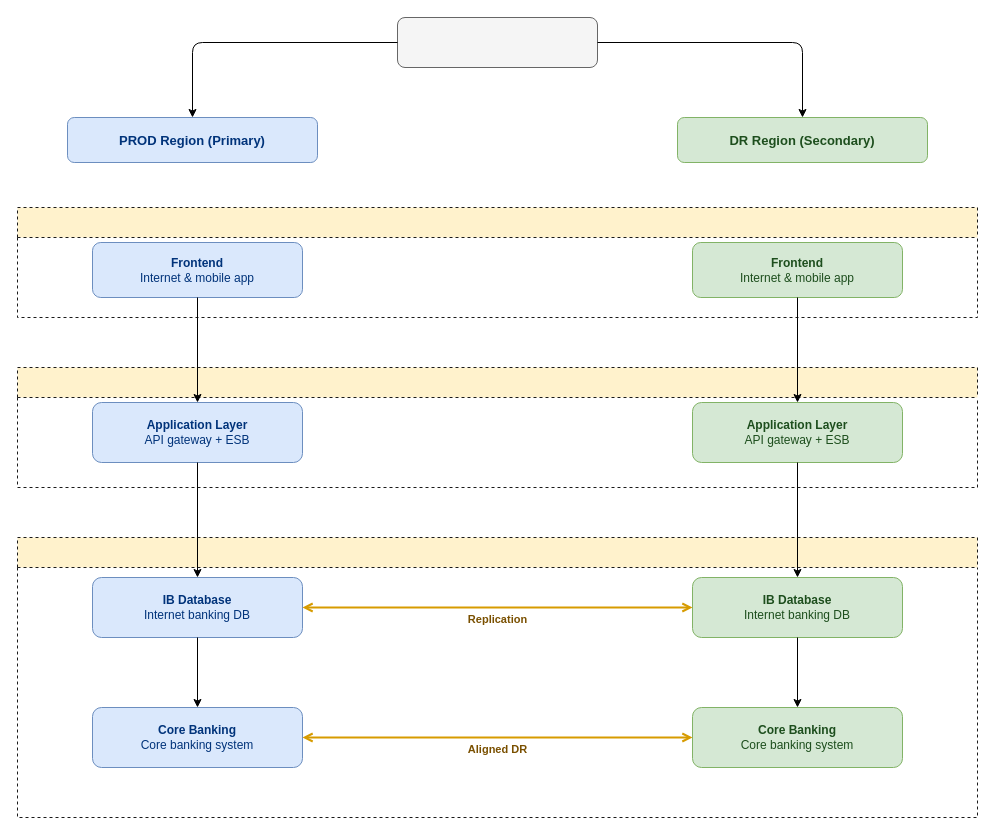
This 995x835 diagram has some shape labels left out. The shapes that lost their labels are listed below. From the top down, each one's box as (x1, y1, x2, y2) in pixels, then its label:
(396, 16, 598, 68): DNS / Traffic
(16, 206, 978, 318): Presentation Tier
(16, 366, 978, 488): Application Tier
(16, 536, 978, 818): Database Tier
